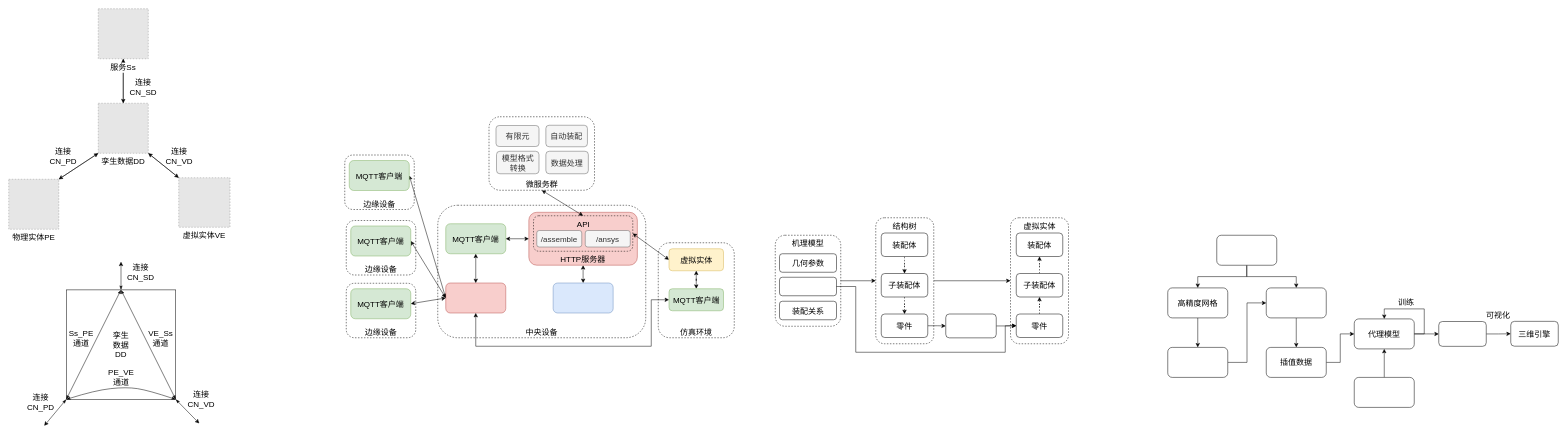
The diagram is 1567 pixels wide and 439 high, and some of its shapes have lost their labels. Grey dashed boxes stand in for pictures. Here are the shapes that lost their labels. From the top down, the centre of each, then its label:
At [1246,250]: "关键零部件".
At [475,297]: "MQTT服务器".
At [583,297]: "知识图谱".
At [807,286]: "物理属性".
At [1296,302]: "低精度网格".
At [970,326]: "模型库".
At [1462,333]: "预测数据".
At [1197,362]: "仿真数据".
At [1384,392]: "传感器数据".
